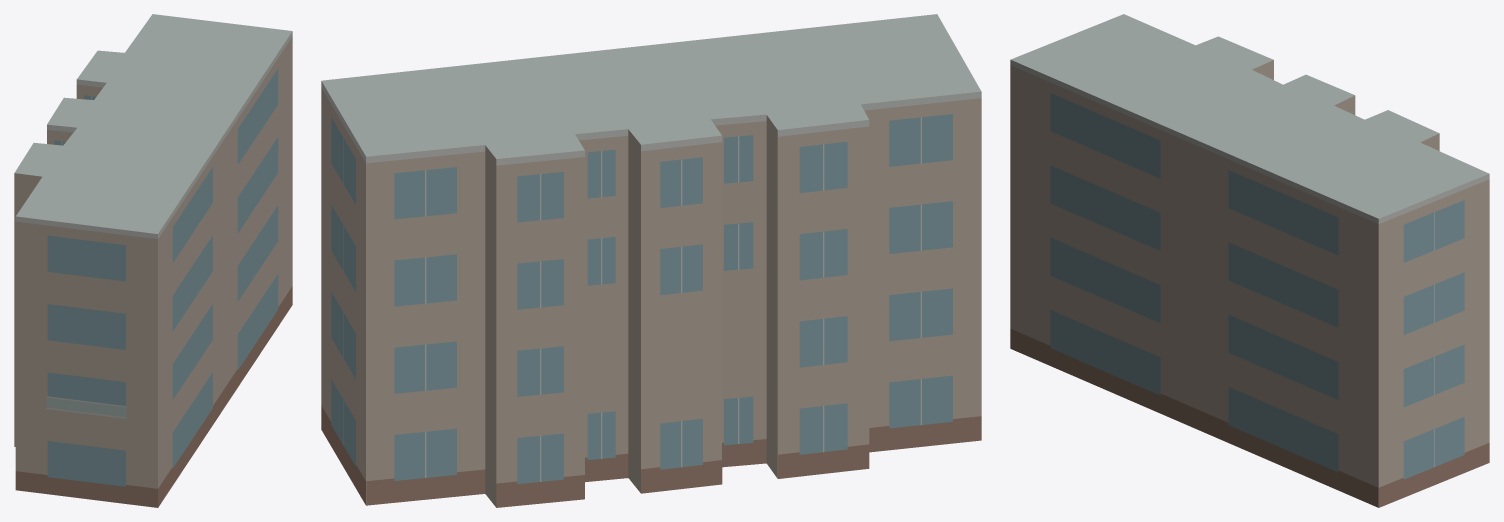
File: survey-upis-32768386.glb
The picture shows the model from 3 angles, left to right: view 1: azimuth 30°, elevation 25°; view 2: azimuth 150°, elevation 25°; view 3: azimuth 270°, elevation 25°; orthographic projection. The views are drawn at different scales.
Parts seen in each view (by area): view 1: survey-upis-32768386.tmp; view 2: survey-upis-32768386.tmp; view 3: survey-upis-32768386.tmp.
Boxes of the visible parts, bbox=[...] form: survey-upis-32768386.tmp: bbox=[14, 14, 292, 507]; survey-upis-32768386.tmp: bbox=[321, 14, 981, 507]; survey-upis-32768386.tmp: bbox=[1010, 14, 1489, 507].
Size of the model in its own units: 19.76 by 13 by 19.53.
